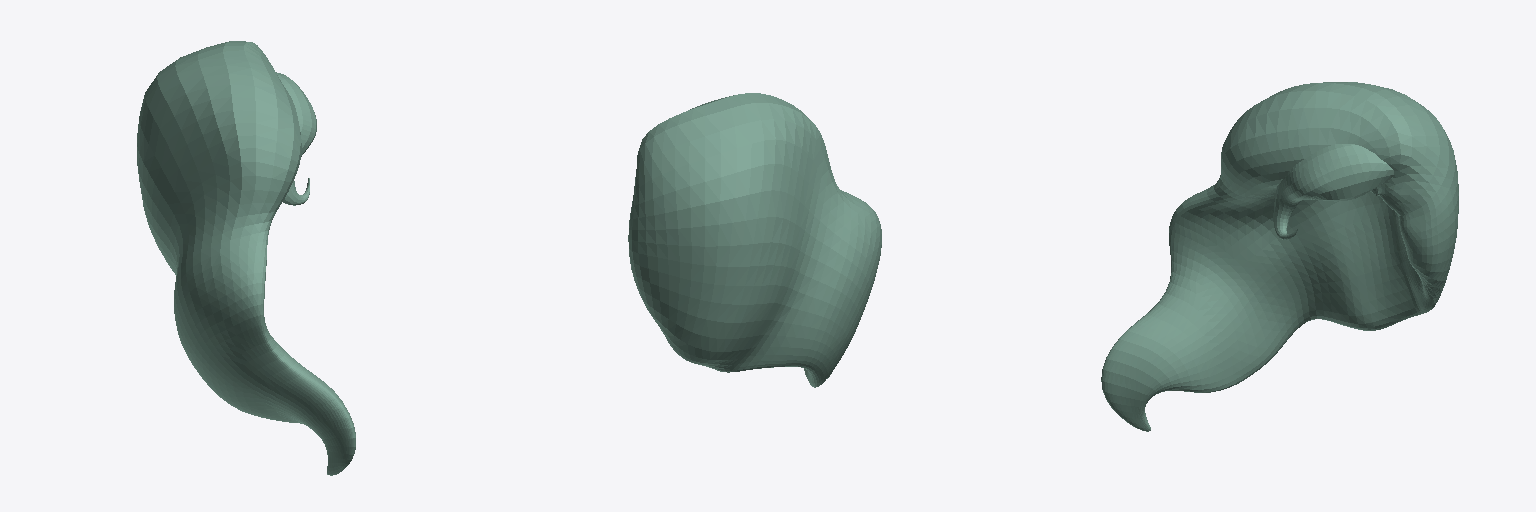
File: lunamane.obj
3 views of the same model, side by side, from view 1: azimuth 30°, elevation 25°; view 2: azimuth 150°, elevation 25°; view 3: azimuth 270°, elevation 25° (orthographic).
Parts seen in each view (by area): view 1: player_luna_nj_body3_model0; view 2: player_luna_nj_body3_model0; view 3: player_luna_nj_body3_model0.
Boxes of the visible parts, x1=… form: player_luna_nj_body3_model0: x1=137, y1=41, x2=355, y2=475; player_luna_nj_body3_model0: x1=628, y1=93, x2=881, y2=387; player_luna_nj_body3_model0: x1=1101, y1=82, x2=1458, y2=431.
Bounding box in the file's own units: 20.97 × 42.94 × 40.35.